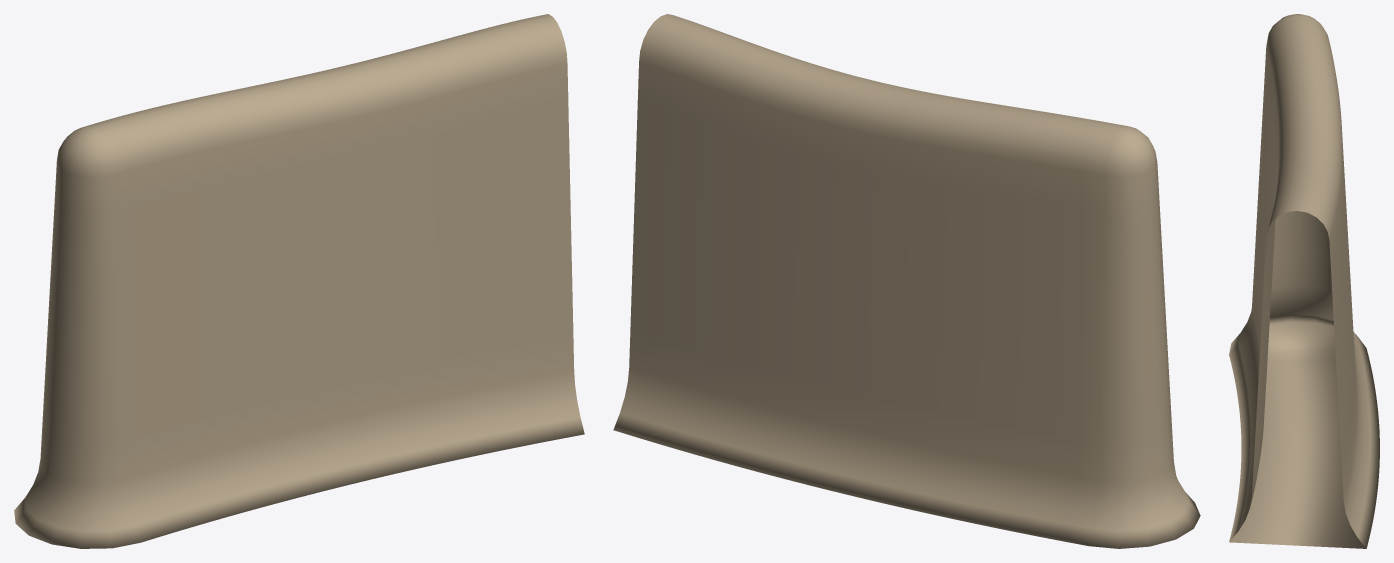
Rendered from KFB_Wall_curved_ring_r5_capB.r4.glb.
3 renders of one model, left to right at view 1: azimuth 30°, elevation 25°; view 2: azimuth 150°, elevation 25°; view 3: azimuth 270°, elevation 25°, orthographic. The views are drawn at different scales.
Parts seen in each view (by area): view 1: KFB_Wall_curved_ring_r5_capB; view 2: KFB_Wall_curved_ring_r5_capB; view 3: KFB_Wall_curved_ring_r5_capB.
Boxes of the visible parts, box(x1,y1,x2,y2) form: KFB_Wall_curved_ring_r5_capB: box(14, 14, 584, 548); KFB_Wall_curved_ring_r5_capB: box(613, 14, 1200, 548); KFB_Wall_curved_ring_r5_capB: box(1229, 14, 1379, 548).
Bounding box in the file's own units: 5.22 × 3.6 × 1.47.
